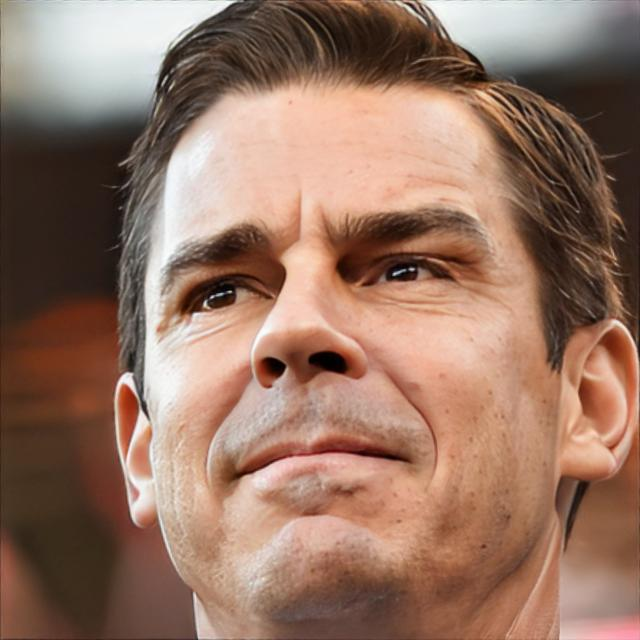anger: (144, 64, 564, 626)
